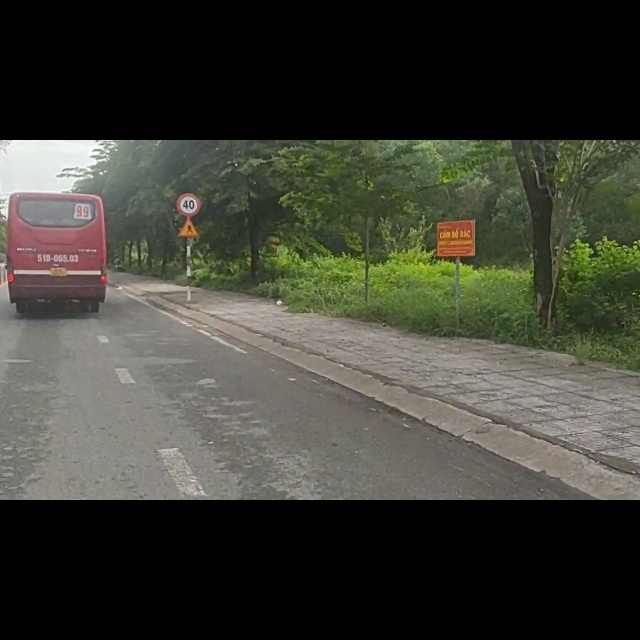bien_nguy_hiem: (177, 92, 202, 135), (175, 137, 201, 177)
